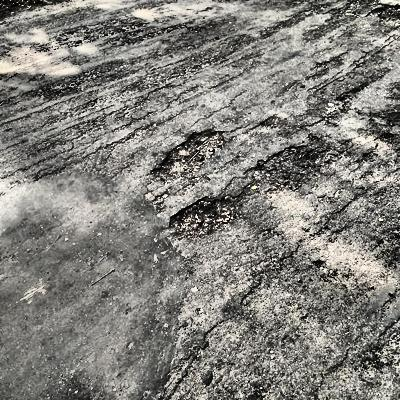pothole: (147, 126, 227, 182), (239, 143, 326, 194), (166, 193, 238, 243)
